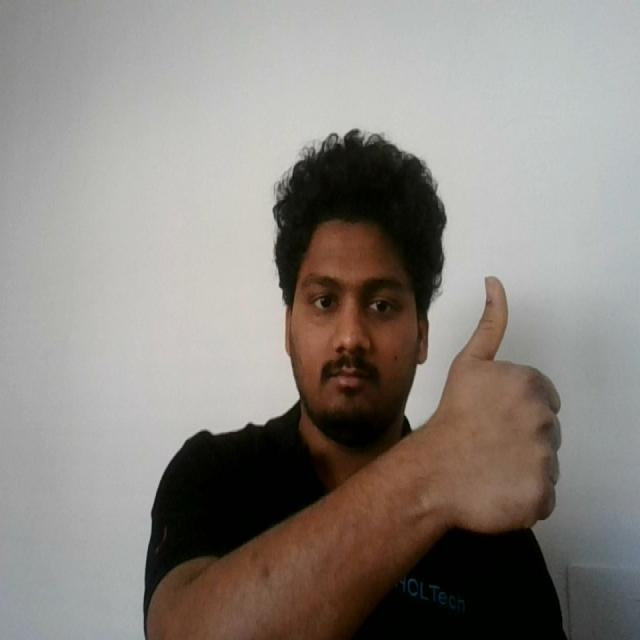Yes: (420, 268, 569, 542)
